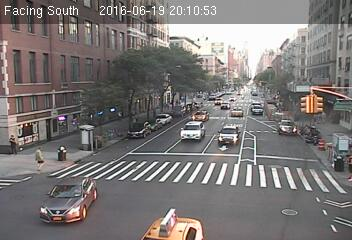neg: (303, 24, 330, 60), (93, 191, 115, 220), (145, 176, 165, 203), (251, 190, 271, 217), (128, 139, 148, 165), (56, 58, 75, 84), (295, 151, 314, 176), (86, 66, 104, 90), (267, 112, 285, 136), (260, 57, 277, 80), (185, 178, 201, 200), (80, 124, 95, 144), (185, 100, 200, 120), (236, 153, 251, 173), (227, 74, 240, 92), (130, 73, 143, 90), (325, 139, 338, 156), (64, 139, 77, 155), (301, 100, 314, 116), (282, 78, 294, 95), (157, 84, 169, 100)
pos: (29, 144, 48, 171), (3, 132, 20, 154)
